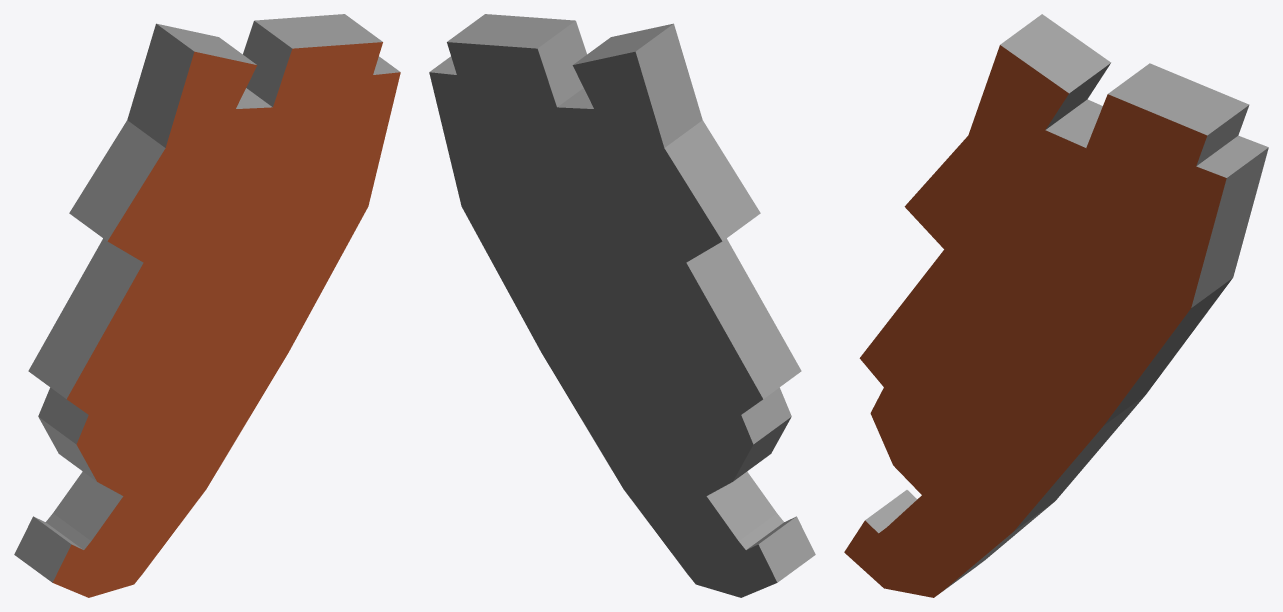
The model's file is construction_0855_assumed_A_Casa_h6m.obj.
3 views of the same model, side by side, from view 1: azimuth 30°, elevation 25°; view 2: azimuth 150°, elevation 25°; view 3: azimuth 330°, elevation 25° (orthographic). The views are drawn at different scales.
Visible parts, largest first — view 1: construction_0855_assumed_A_Casa; view 2: construction_0855_assumed_A_Casa; view 3: construction_0855_assumed_A_Casa.
Part boxes in pixels (x1,y1,x2,y2): construction_0855_assumed_A_Casa: [14, 14, 400, 597]; construction_0855_assumed_A_Casa: [429, 14, 815, 597]; construction_0855_assumed_A_Casa: [844, 14, 1268, 597].
Size of the model in its own units: 31.46 by 44.94 by 6.
